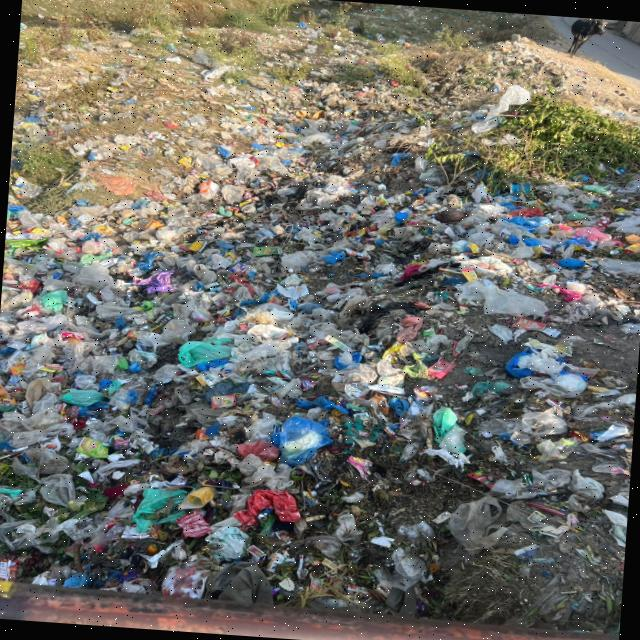garbage: (0, 170, 640, 620), (213, 73, 640, 214)
